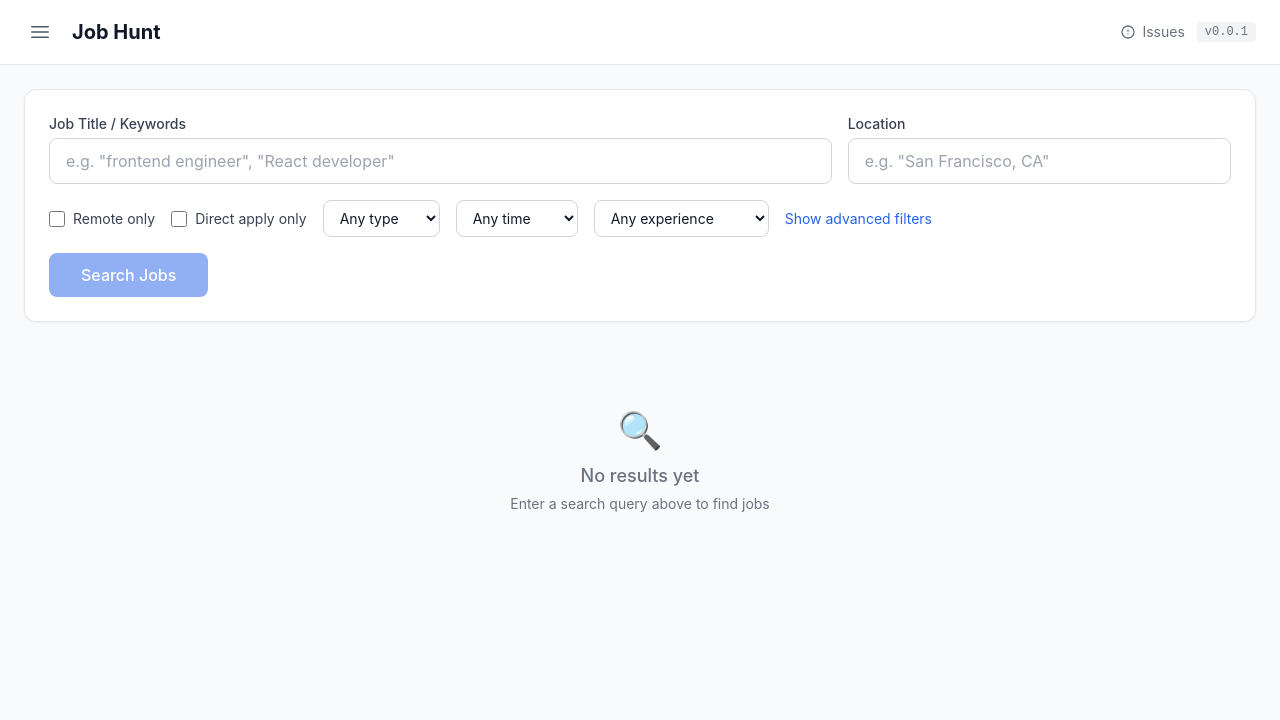
Test: App › opens sidebar when hamburger is clicked
Click the button with test id "hamburger-button" at (40, 32), box [24,16,56,48]
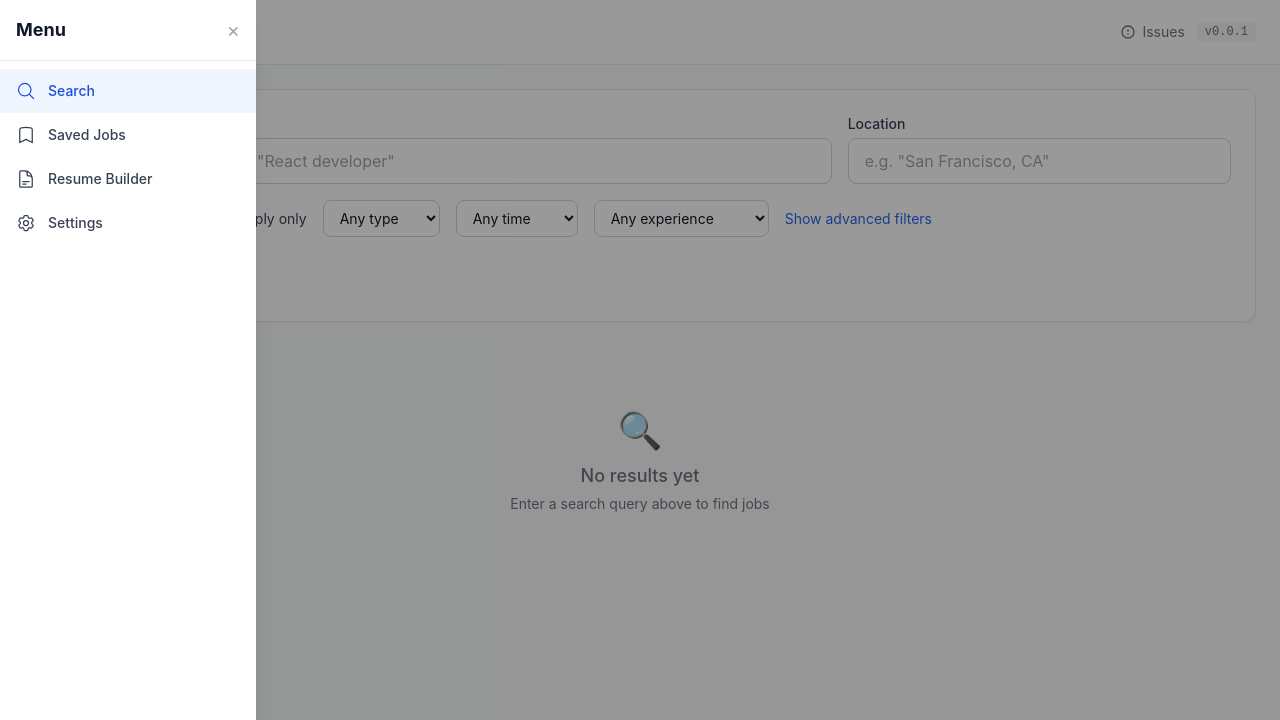
Check: the navigation bar with test id "sidebar" is shown, box [0,0,256,719]
